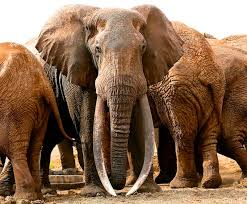Elephant: (31, 2, 190, 195)
